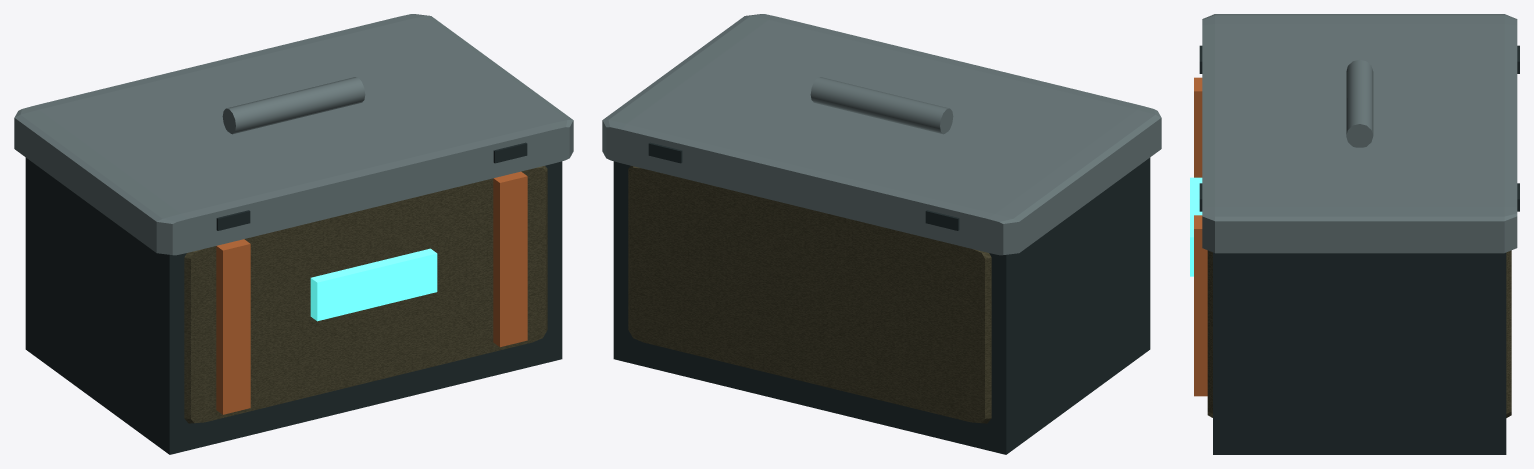
File: salvage_case.glb
3 views of the same model, side by side, from view 1: azimuth 30°, elevation 25°; view 2: azimuth 150°, elevation 25°; view 3: azimuth 270°, elevation 25° (orthographic).
Bounding box in the file's own units: 0.903 × 0.54 × 0.6075.
5 materials, 1 textured.
